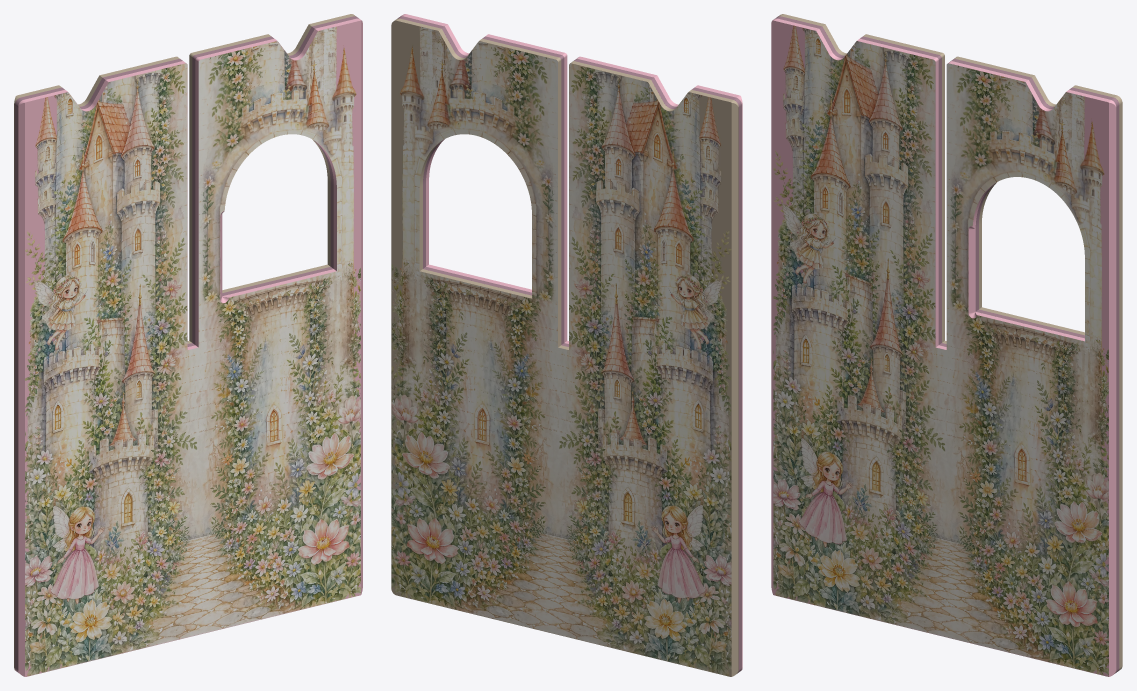
3 views of the same model, side by side, from view 1: azimuth 30°, elevation 25°; view 2: azimuth 150°, elevation 25°; view 3: azimuth 330°, elevation 25° (orthographic).
Parts seen in each view (by area): view 1: p002; view 2: p002; view 3: p002.
Part boxes in pixels (box(x1,y1,x2,y2)): p002: box(14, 14, 362, 676); p002: box(391, 14, 742, 676); p002: box(771, 14, 1122, 676).
Size of the model in its own units: 580 by 925 by 27.
Materials: 5 (2 with a texture image).
